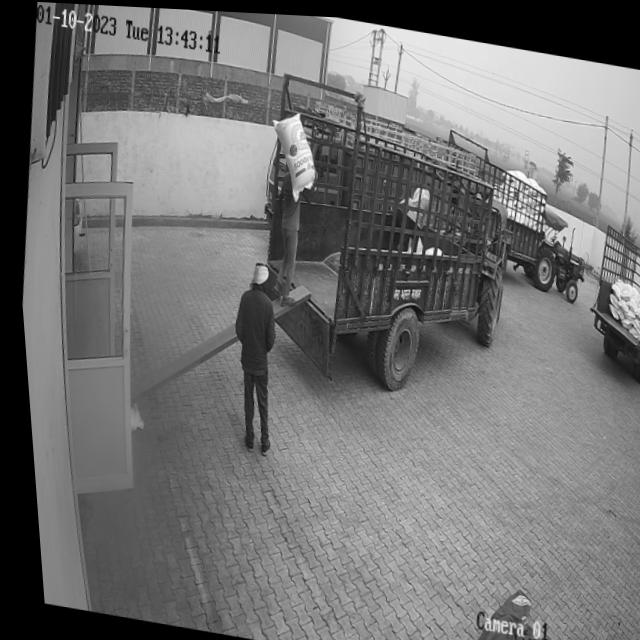sack: (261, 105, 322, 201)
